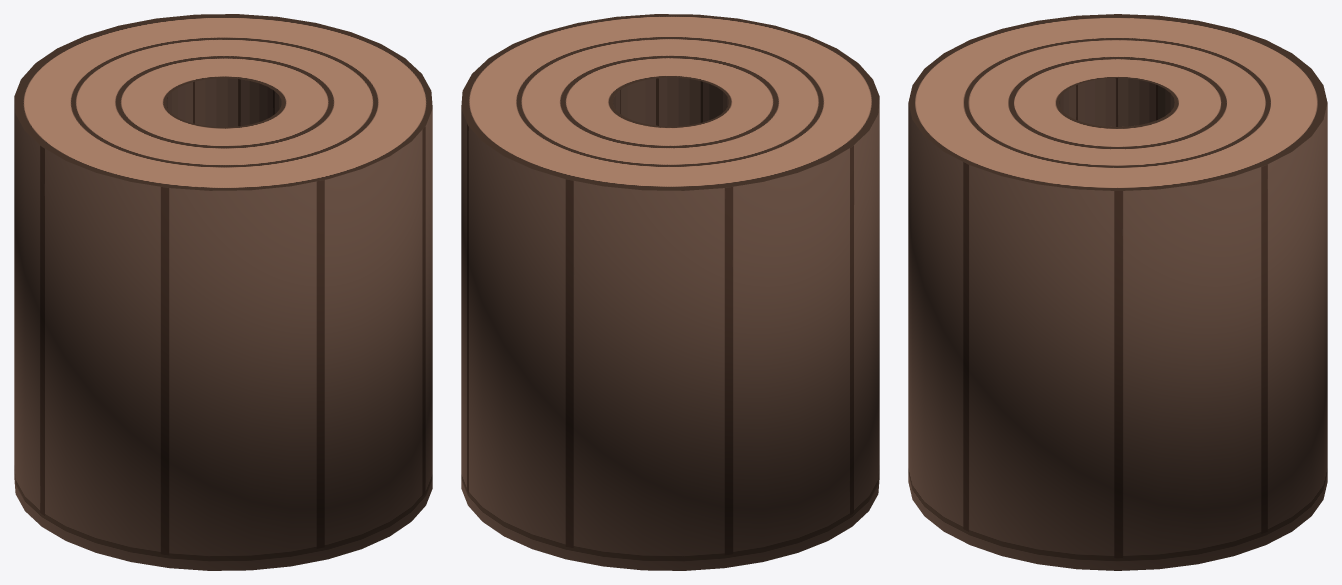
The model's file is LogWithHole.fbx.
3 views of the same model, side by side, from view 1: azimuth 30°, elevation 25°; view 2: azimuth 150°, elevation 25°; view 3: azimuth 270°, elevation 25° (orthographic).
Parts seen in each view (by area): view 1: Cylinder; view 2: Cylinder; view 3: Cylinder.
Part boxes in pixels (x1,y1,x2,y2): Cylinder: [14, 14, 432, 570]; Cylinder: [461, 14, 879, 570]; Cylinder: [908, 14, 1327, 570].
Size of the model in its own units: 200 by 200 by 200.
